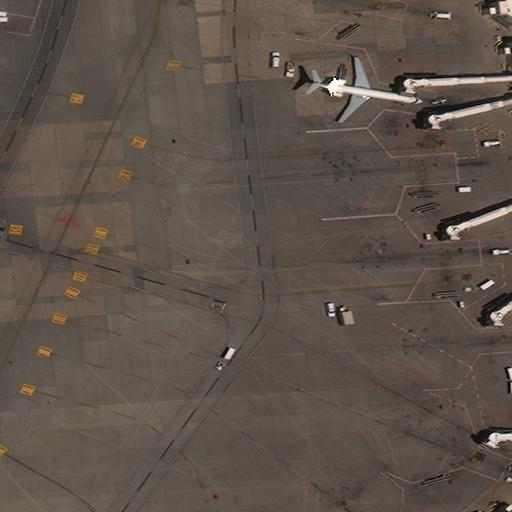Medium Civil Transport: (310, 57, 423, 122)
